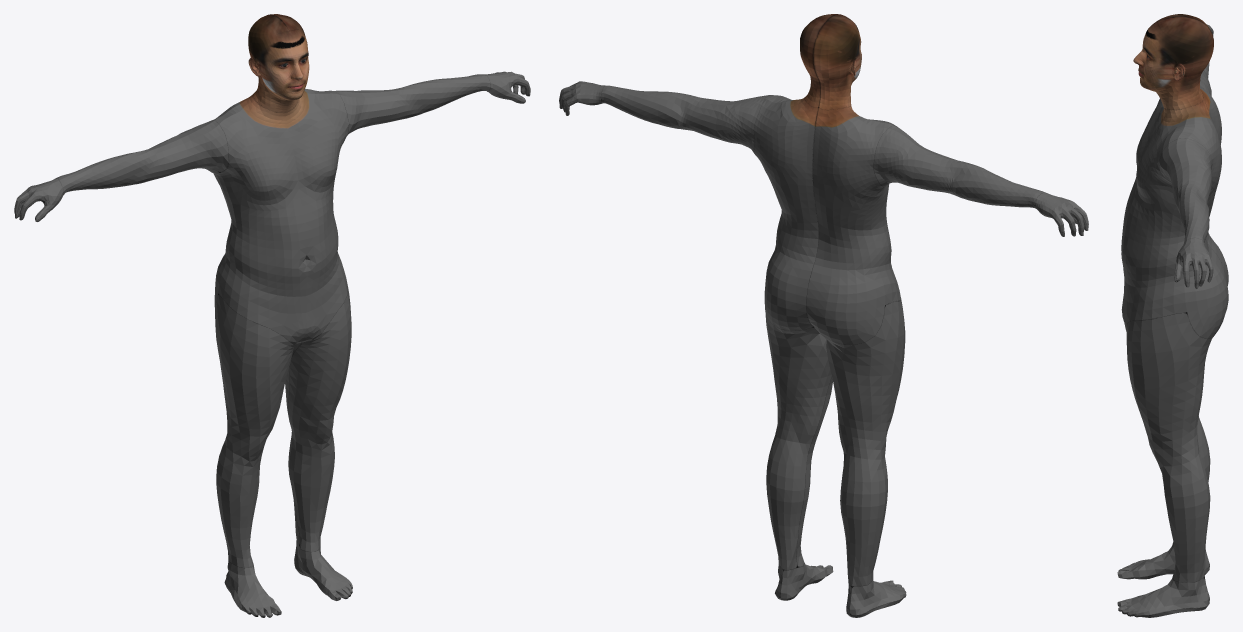
File: normal_model.obj
3 renders of one model, left to right at view 1: azimuth 30°, elevation 25°; view 2: azimuth 150°, elevation 25°; view 3: azimuth 270°, elevation 25°, orthographic. The views are drawn at different scales.
Bounding box in the file's own units: 1.71 × 1.82 × 0.3184.
Materials: 1 (1 with a texture image).
